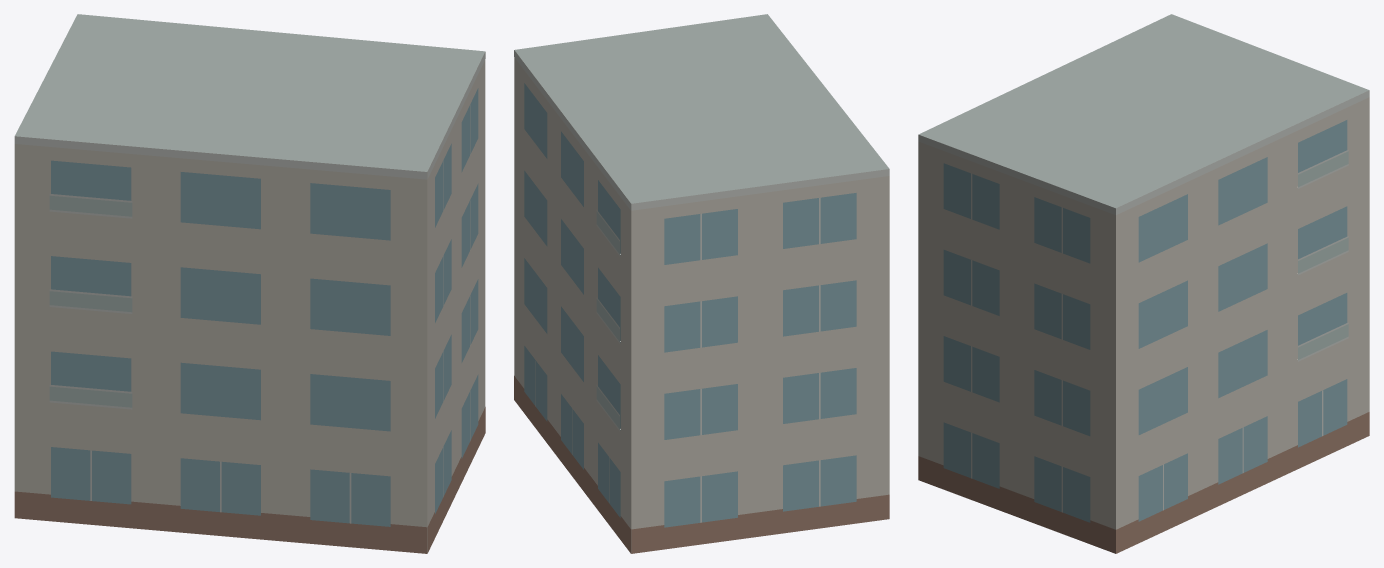
File: survey-upis-33046337.glb
3 views of the same model, side by side, from view 1: azimuth 30°, elevation 25°; view 2: azimuth 150°, elevation 25°; view 3: azimuth 270°, elevation 25° (orthographic). The views are drawn at different scales.
Parts seen in each view (by area): view 1: survey-upis-33046337.tmp; view 2: survey-upis-33046337.tmp; view 3: survey-upis-33046337.tmp.
Part boxes in pixels (x1,y1,x2,y2): survey-upis-33046337.tmp: [14, 14, 485, 553]; survey-upis-33046337.tmp: [514, 14, 889, 553]; survey-upis-33046337.tmp: [918, 14, 1369, 553].
Bounding box in the file's own units: 14.73 × 12.2 × 14.45.
